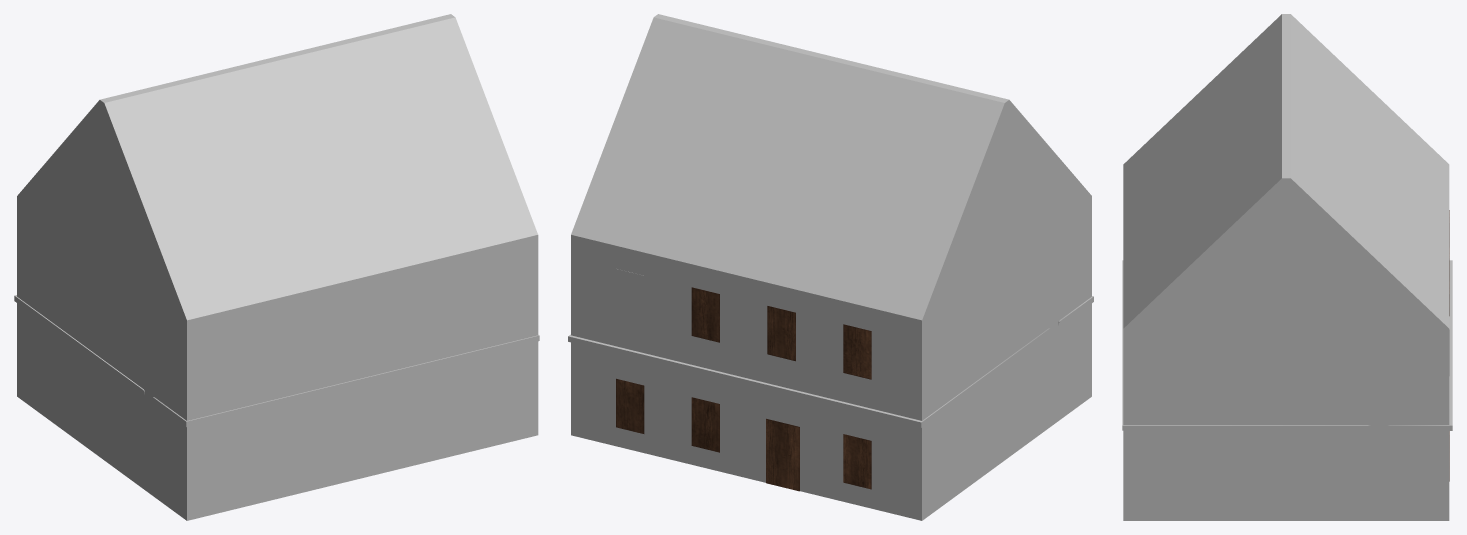
Rendered from house_inside2.fbx.
The picture shows the model from 3 angles, left to right: view 1: azimuth 30°, elevation 25°; view 2: azimuth 150°, elevation 25°; view 3: azimuth 270°, elevation 25°; orthographic projection. The views are drawn at different scales.
Parts seen in each view (by area): view 1: house2; view 2: house2; view 3: house2.
Part boxes in pixels (x1,y1,x2,y2): house2: (14, 14, 539, 520); house2: (568, 14, 1093, 520); house2: (1122, 14, 1452, 520).
Size of the model in its own units: 2498 by 2418 by 2109.
